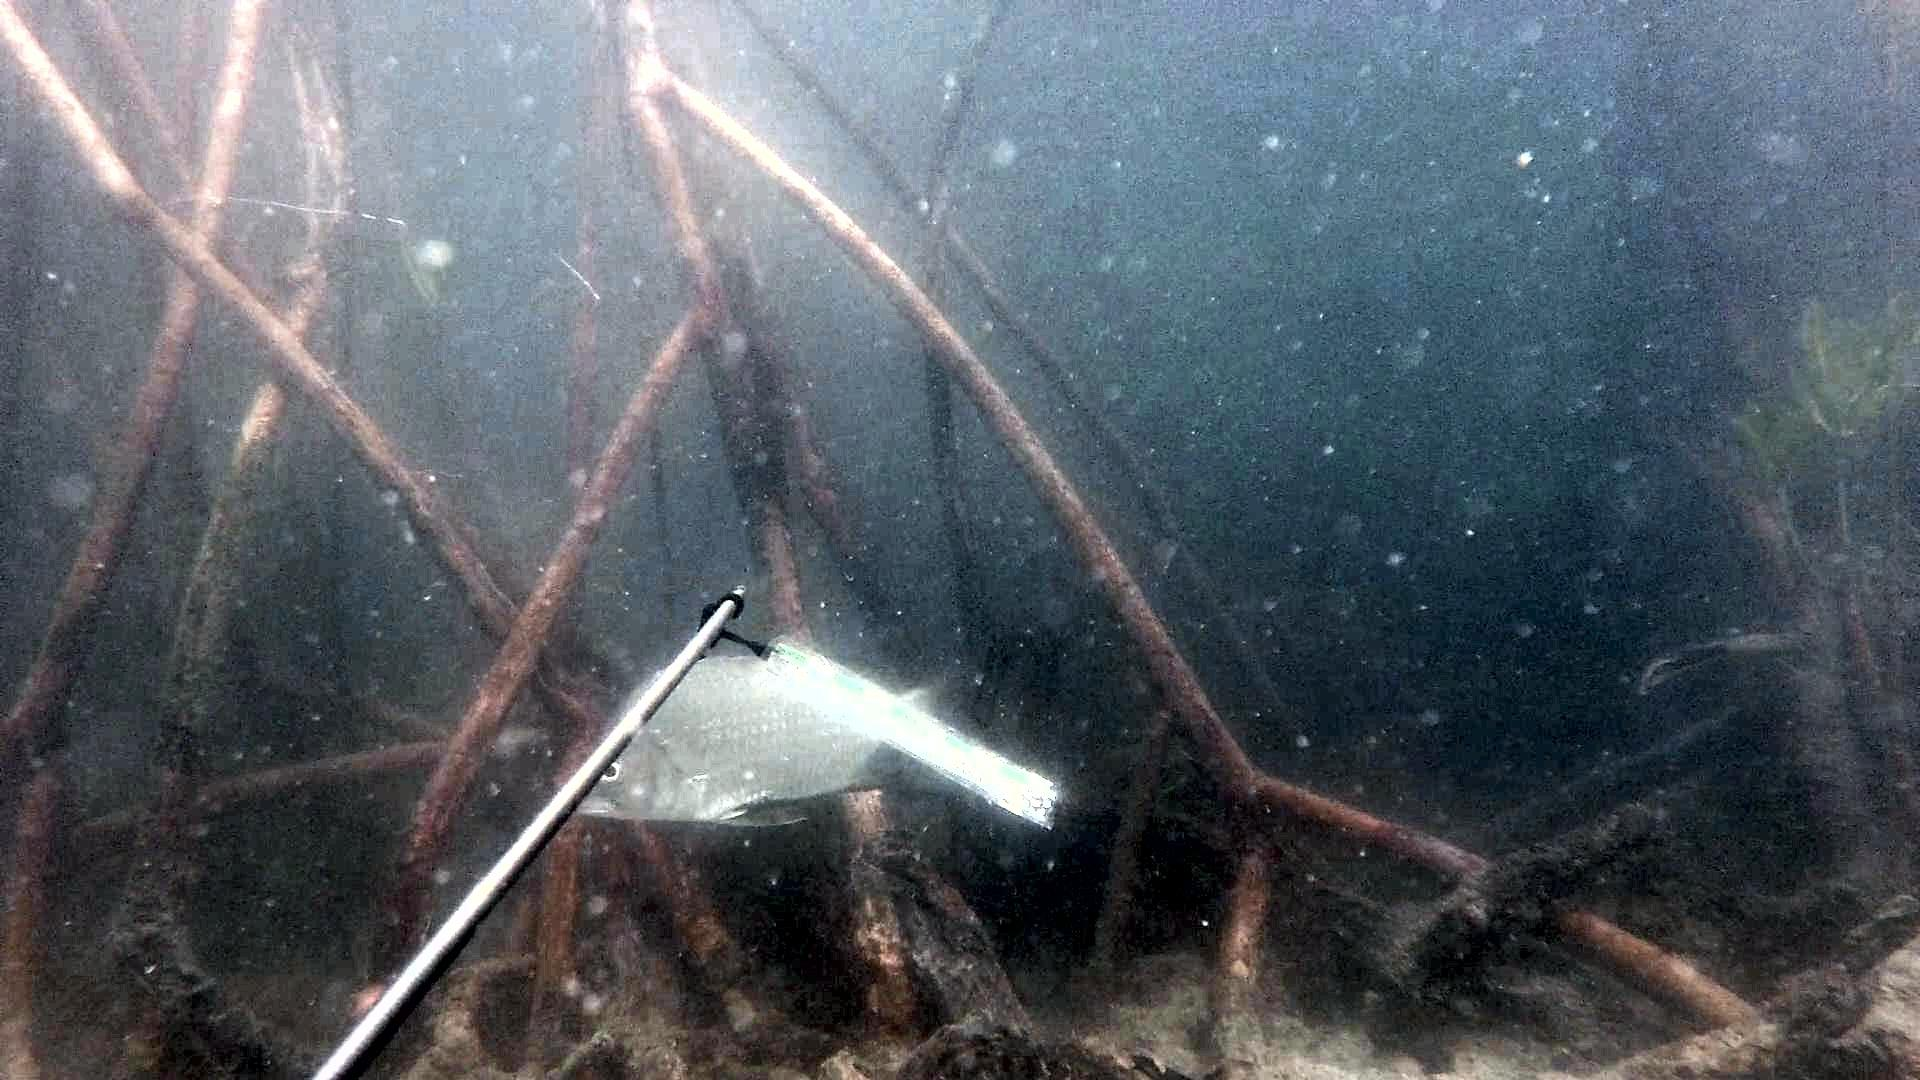acanthopagrus palmaris: (558, 638, 1019, 840)
